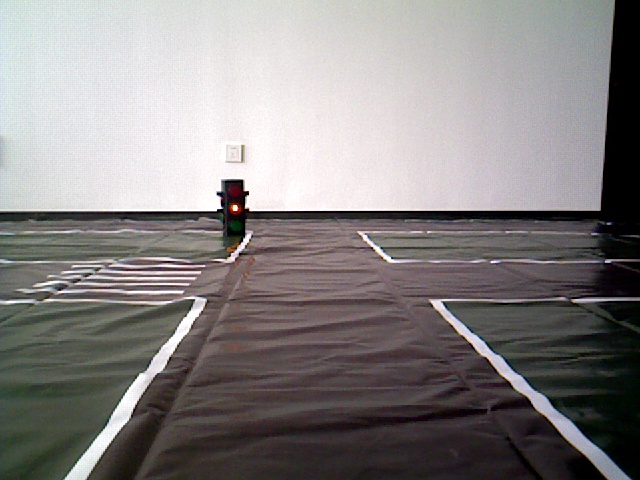yellow: (221, 180, 249, 238)
